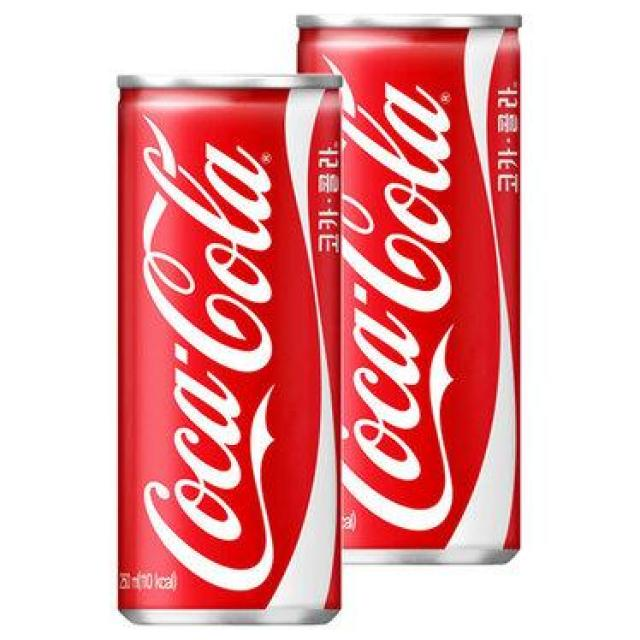coca-cola: (115, 65, 349, 630), (342, 9, 527, 573)
